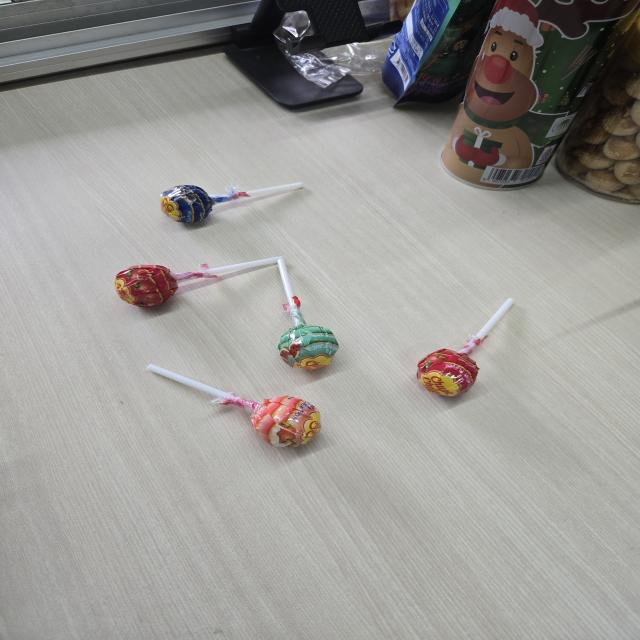lollipop: (140, 359, 325, 458), (113, 245, 290, 315), (415, 291, 523, 404), (269, 256, 344, 378), (158, 174, 312, 232)
